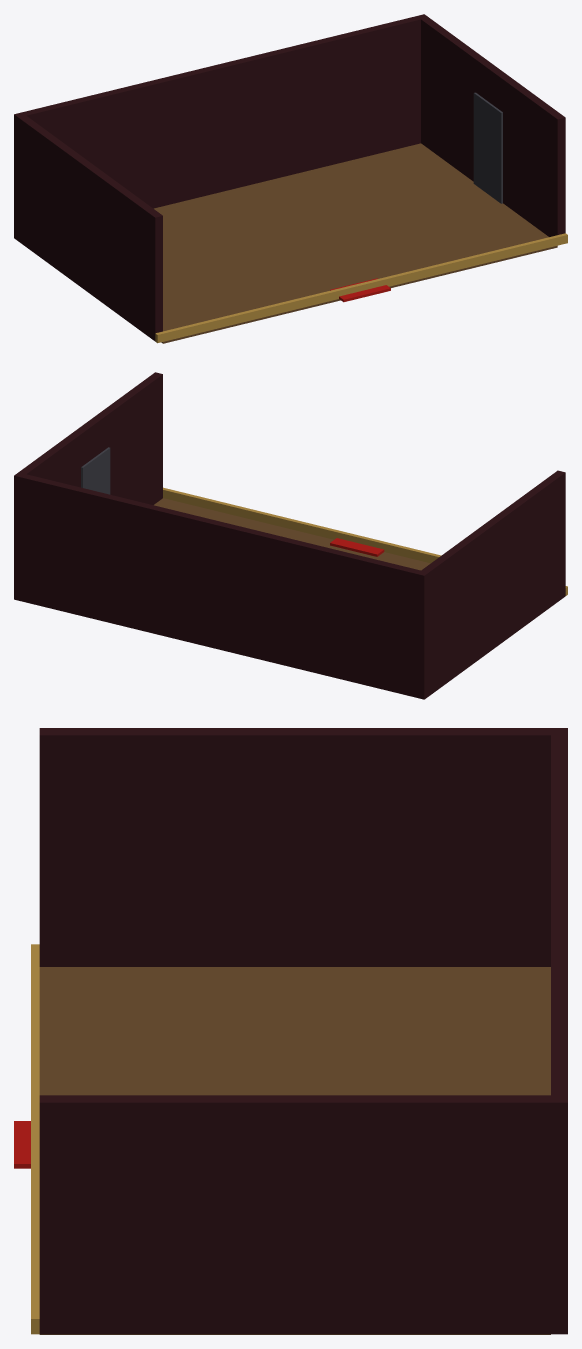
File: stage.obj
3 renders of one model, top to bottom at view 1: azimuth 30°, elevation 25°; view 2: azimuth 150°, elevation 25°; view 3: azimuth 270°, elevation 25°, orthographic. The views are drawn at different scales.
Size of the model in its own units: 10.4 by 3.1 by 6.5.
